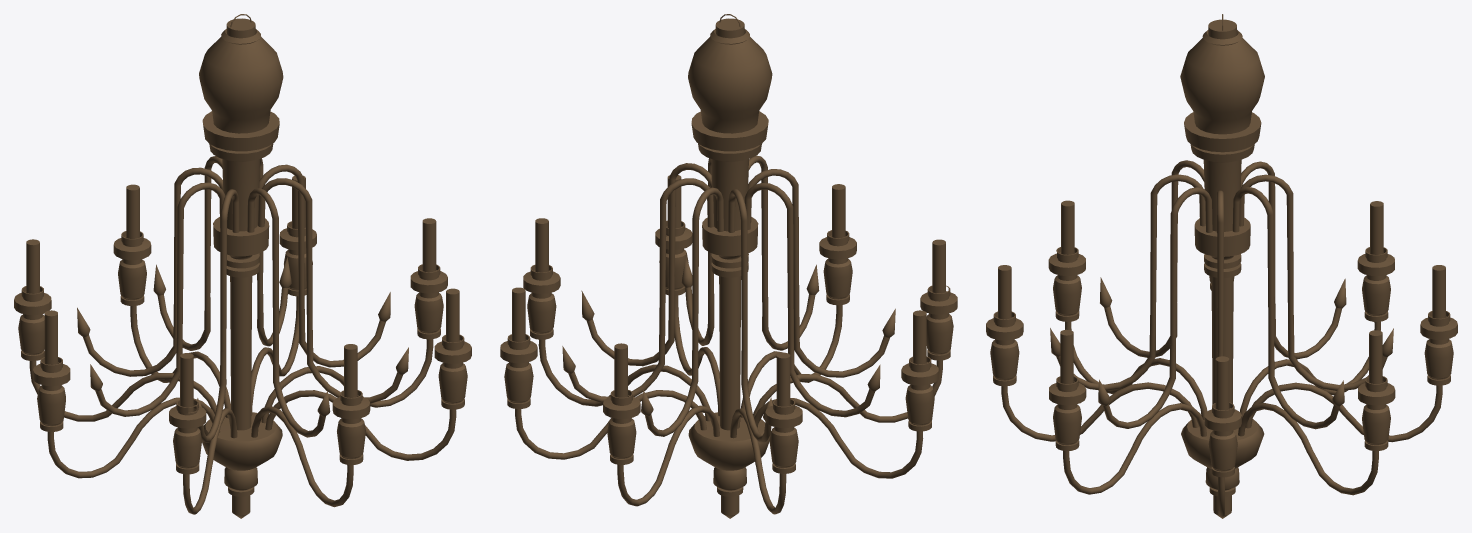
The model's file is Lustre.fbx.
3 views of the same model, side by side, from view 1: azimuth 30°, elevation 25°; view 2: azimuth 150°, elevation 25°; view 3: azimuth 270°, elevation 25° (orthographic).
Visible parts, largest first — view 1: polySurface80; view 2: polySurface80; view 3: polySurface80.
Part boxes in pixels (bbox=[...]): polySurface80: bbox=[14, 14, 471, 518]; polySurface80: bbox=[500, 14, 957, 518]; polySurface80: bbox=[986, 14, 1457, 518].
Size of the model in its own units: 10.44 by 12.28 by 10.42.
